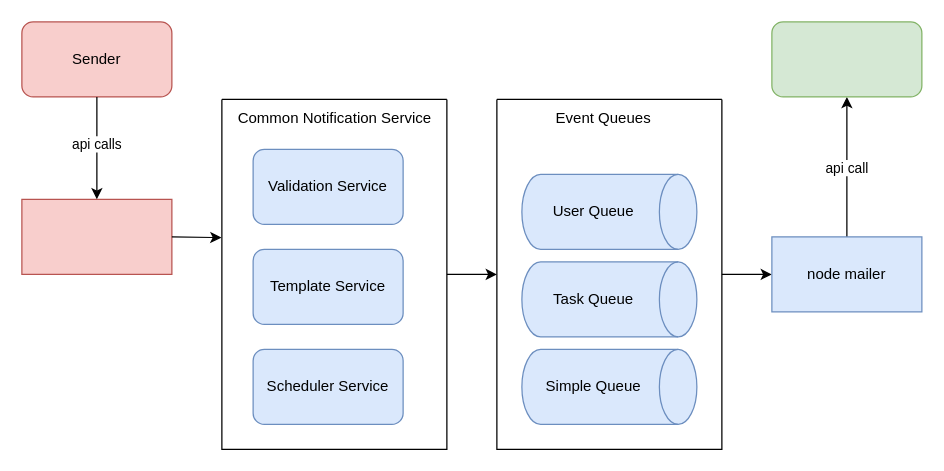
Some shapes in this 944 by 471 pixel diagram are drawn without their labels. The box of each missing label's shape, as (x1, y1, x2, y2) in pixels:
client: (771, 21, 922, 97)
Simple Notification service: (21, 198, 172, 274)
